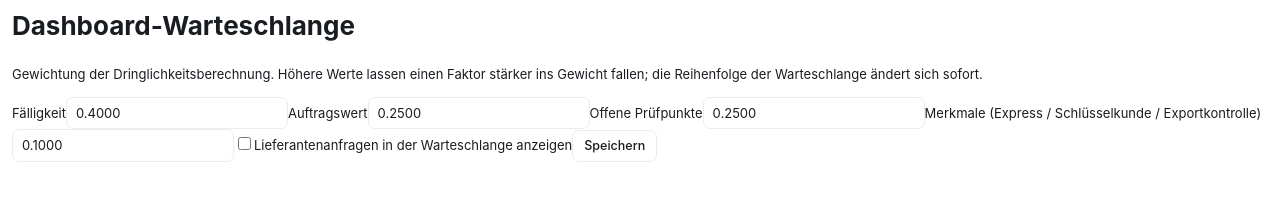
Test: WorkQueueSettingsPage (M6.1) › saves a re-weighting
The width and height of the screenshot is (1277, 210).
Replace the text in the number field labelled "Fälligkeit" with "0.9": (177, 113) top-left (66, 97), bottom-right (288, 129)
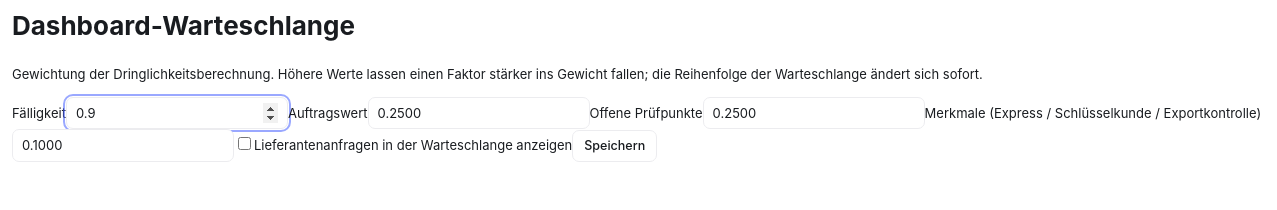
Click the button "Speichern": (615, 146) top-left (572, 130), bottom-right (657, 162)
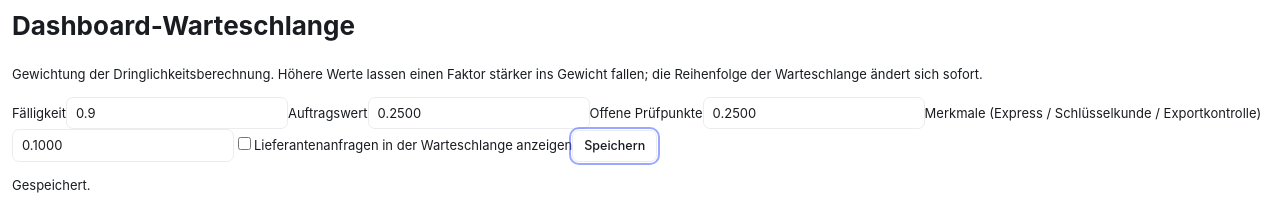
Expected: the message reads "Gespeichert.", top-left (12, 177), bottom-right (91, 193)
